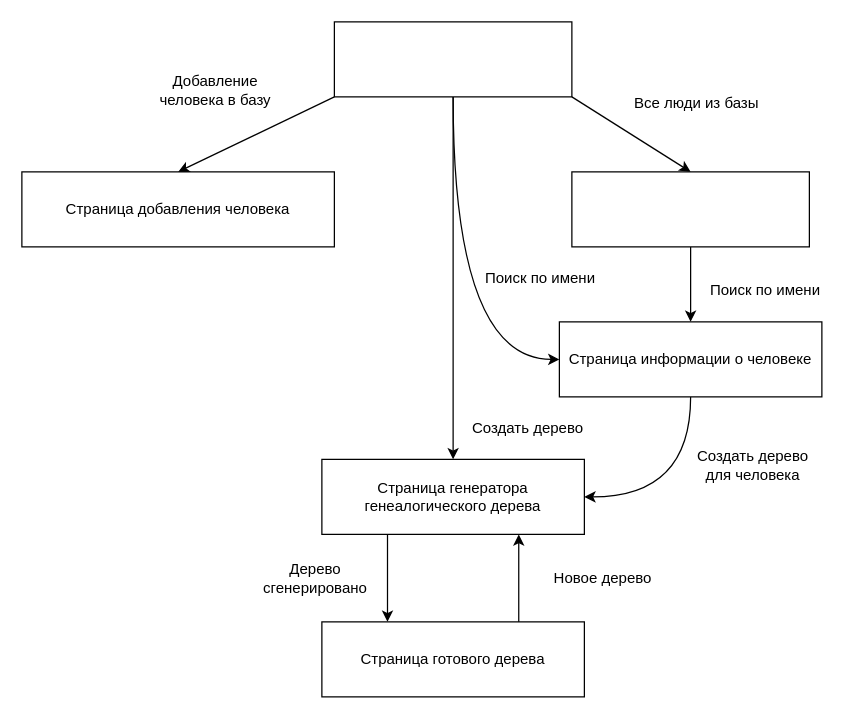
The diagram is 856 pixels wide and 719 high, and some of its shapes have lost their labels. Here are the shapes that lost their labels. From the top down, the centre of each, then its label:
point 452,59: Главная страница
point 690,209: Общий список людей
